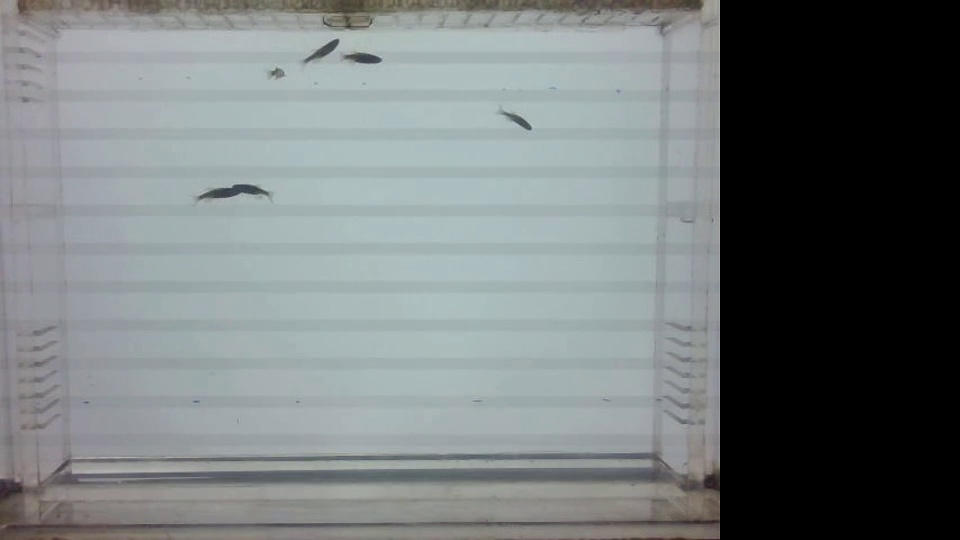fish: (300, 34, 340, 66), (492, 104, 534, 132), (335, 49, 385, 70), (232, 177, 276, 200), (193, 182, 234, 205), (260, 62, 288, 82)
